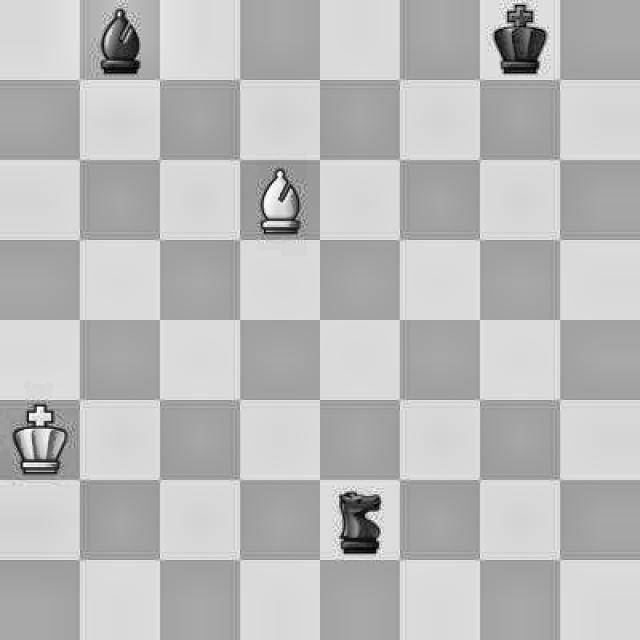Black Knight: (317, 482, 400, 561)
black bishop: (78, 3, 158, 78)
black king: (478, 1, 561, 76)
white bishop: (243, 159, 323, 243)
white king: (0, 405, 80, 479)
